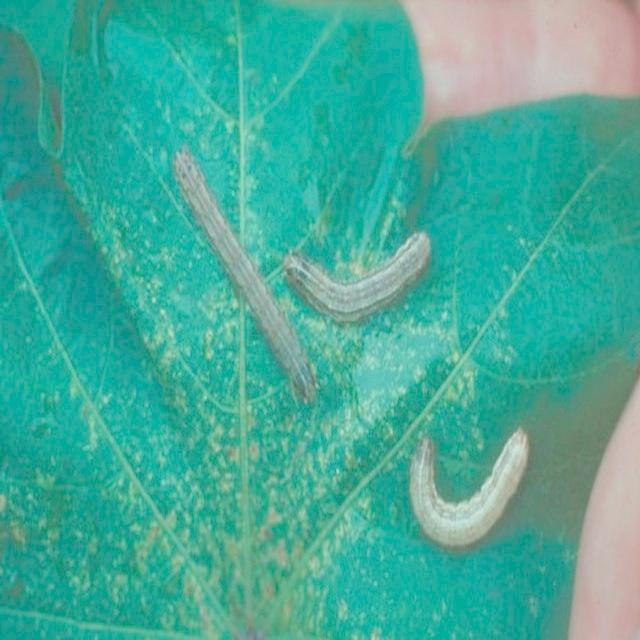Plaga: (183, 166, 316, 398), (406, 431, 531, 549), (279, 233, 431, 320)
